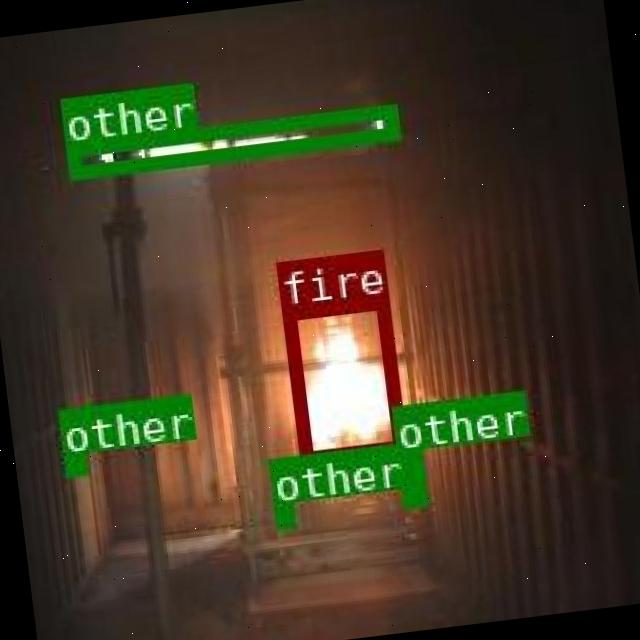fire: (279, 293, 404, 464)
